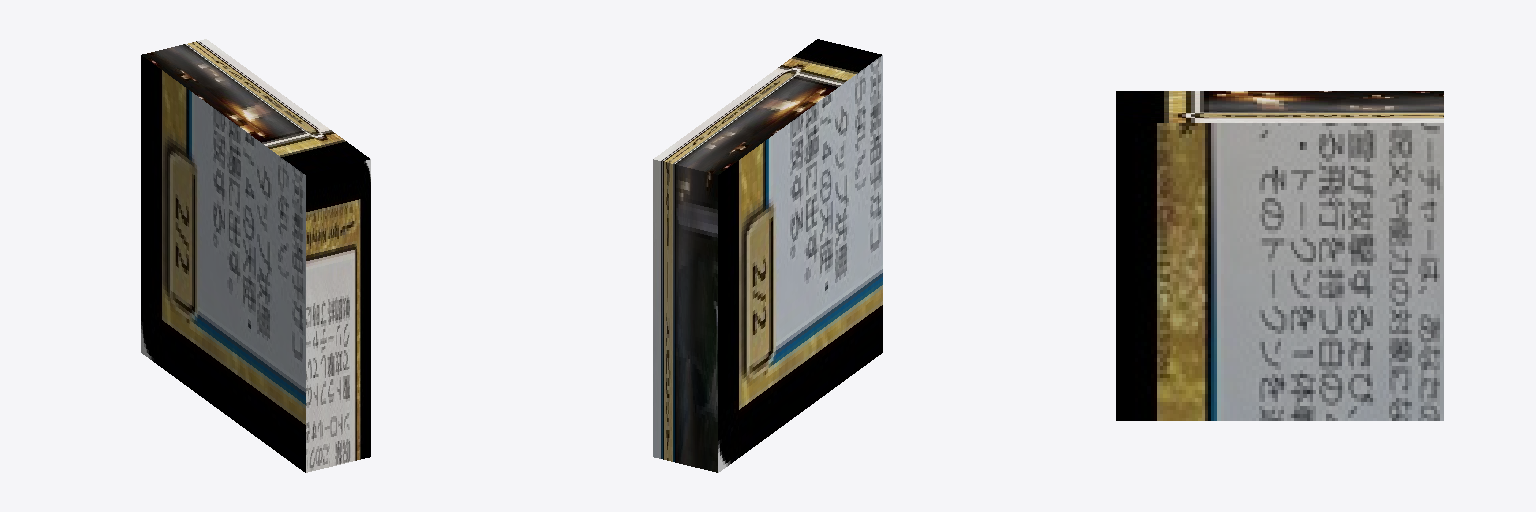
The picture shows the model from 3 angles: view 1: azimuth 30°, elevation 25°; view 2: azimuth 150°, elevation 25°; view 3: azimuth 270°, elevation 25°; orthographic projection.
Visible parts, largest first — view 1: Cube; view 2: Cube; view 3: Cube.
Boxes of the visible parts, <box> form: Cube: <box>141,39,370,472</box>; Cube: <box>653,39,882,472</box>; Cube: <box>1116,91,1443,420</box>.
Bounding box in the file's own units: 0.4351 × 1.9 × 1.9.
Materials: 1 (1 with a texture image).